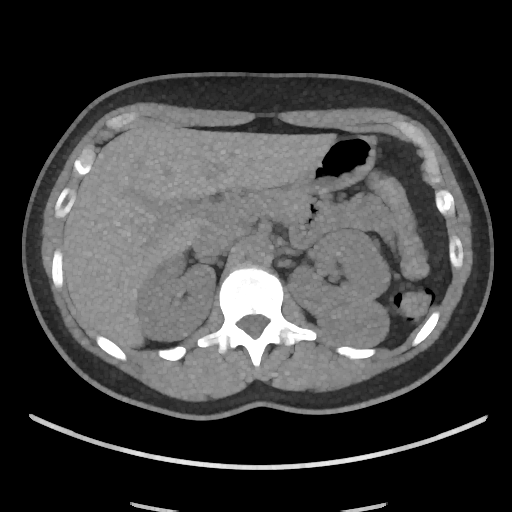Lesion: (309, 287, 394, 355)
